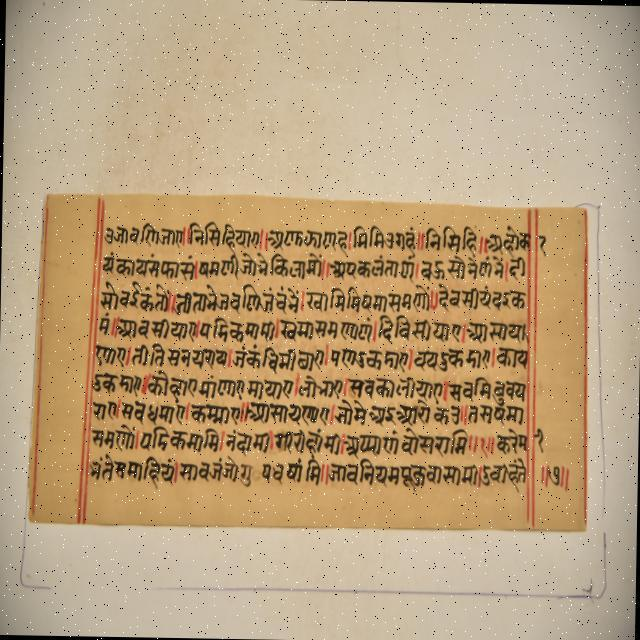text_paragraph: (24, 189, 589, 535)
